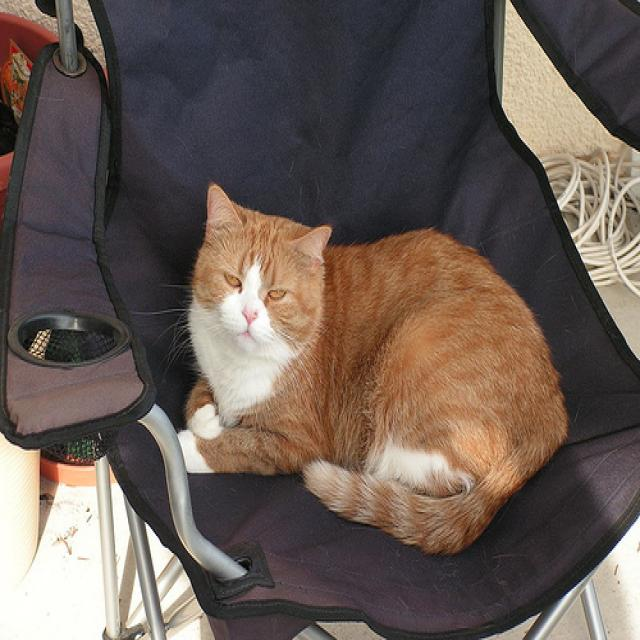cat: (174, 182, 571, 557)
